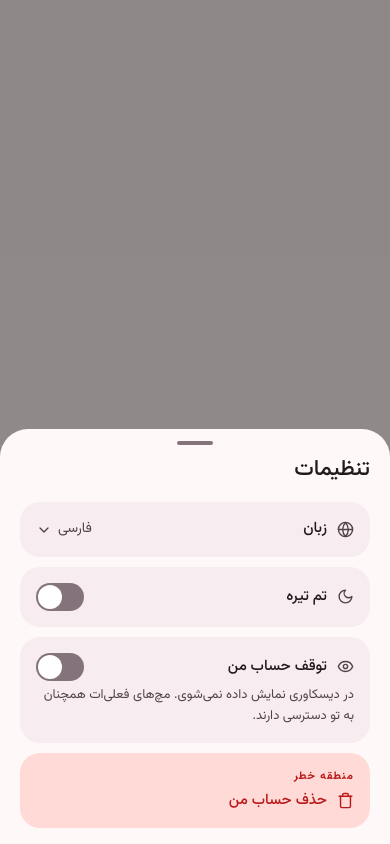
Test: SettingsSheet › shows a confirmation view before deleting, and cancel does not call delete
Click the text "حذف حساب من" at (291, 800), box [229,788,354,812]
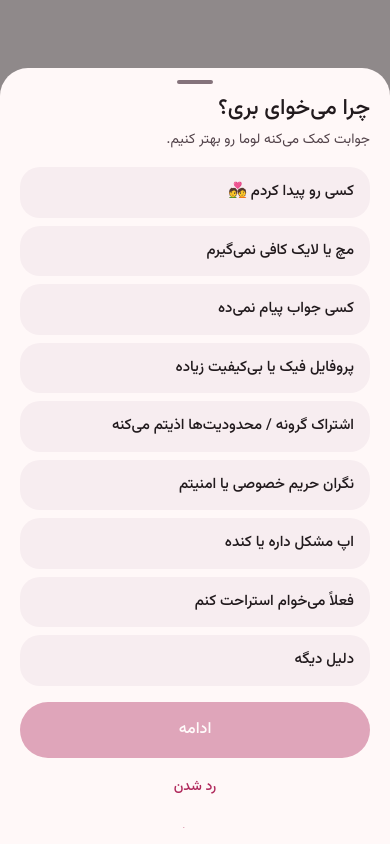
Click the button "رد شدن" at (195, 788), box [20,766,370,810]
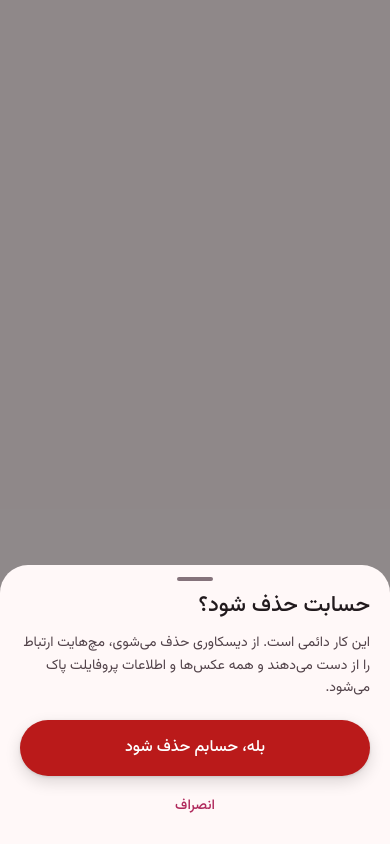
Check: the heading "حسابت حذف شود؟" is shown, box [198,588,370,623]
Cancel steps back to the reason survey, not straight to the menu.
Click the button "انصراف" at (195, 806), box [20,784,370,828]
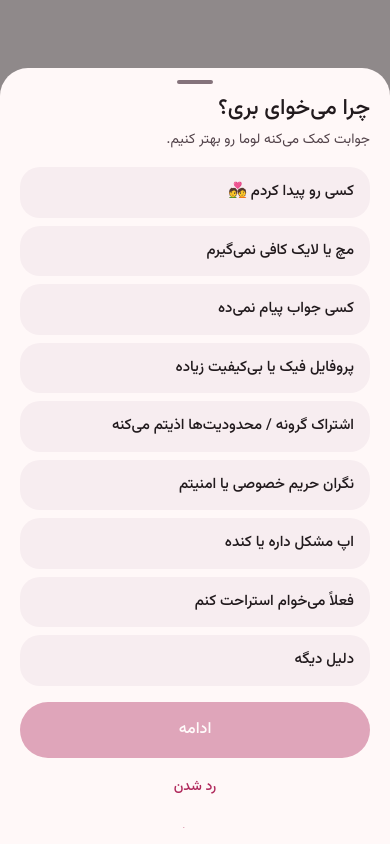
Check: the heading "حسابت حذف شود؟" is gone
Check: the heading "چرا می‌خوای بری؟" is shown, box [218,90,370,126]
